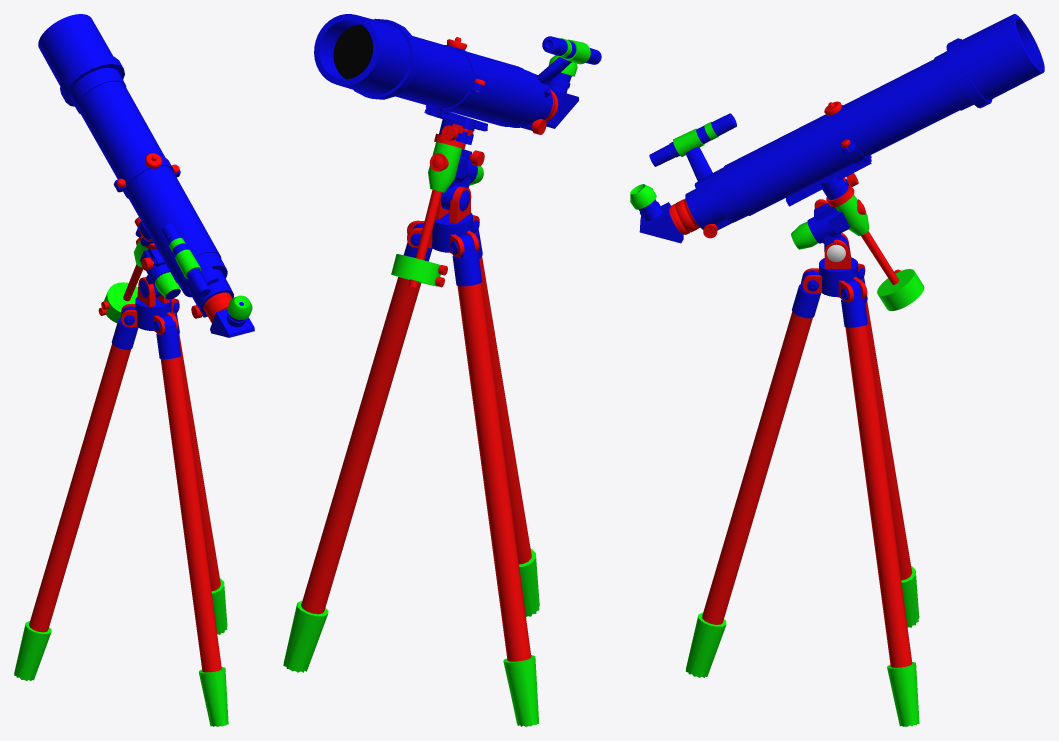
Rendered from teleskop1.fbx.
The picture shows the model from 3 angles, left to right: view 1: azimuth 30°, elevation 25°; view 2: azimuth 150°, elevation 25°; view 3: azimuth 270°, elevation 25°; orthographic projection. The views are drawn at different scales.
Visible parts, largest first — view 1: All004; view 2: All004; view 3: All004.
Boxes of the visible parts, x1=… form: All004: x1=14, y1=14, x2=254, y2=726; All004: x1=283, y1=14, x2=601, y2=726; All004: x1=630, y1=14, x2=1044, y2=726.
Bounding box in the file's own units: 605 × 1659 × 948.
